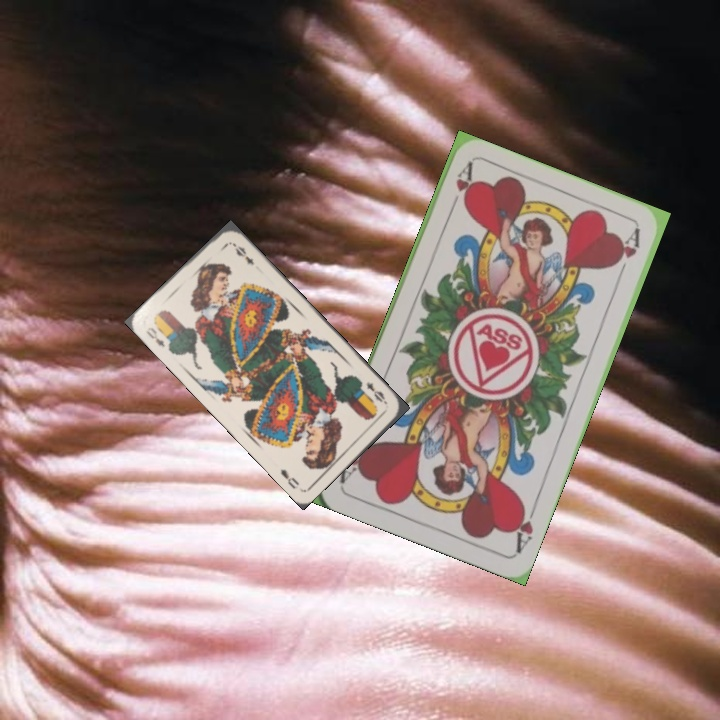EO: (362, 377, 390, 407), (142, 323, 168, 349)
HA: (508, 498, 541, 556), (444, 160, 475, 217)
